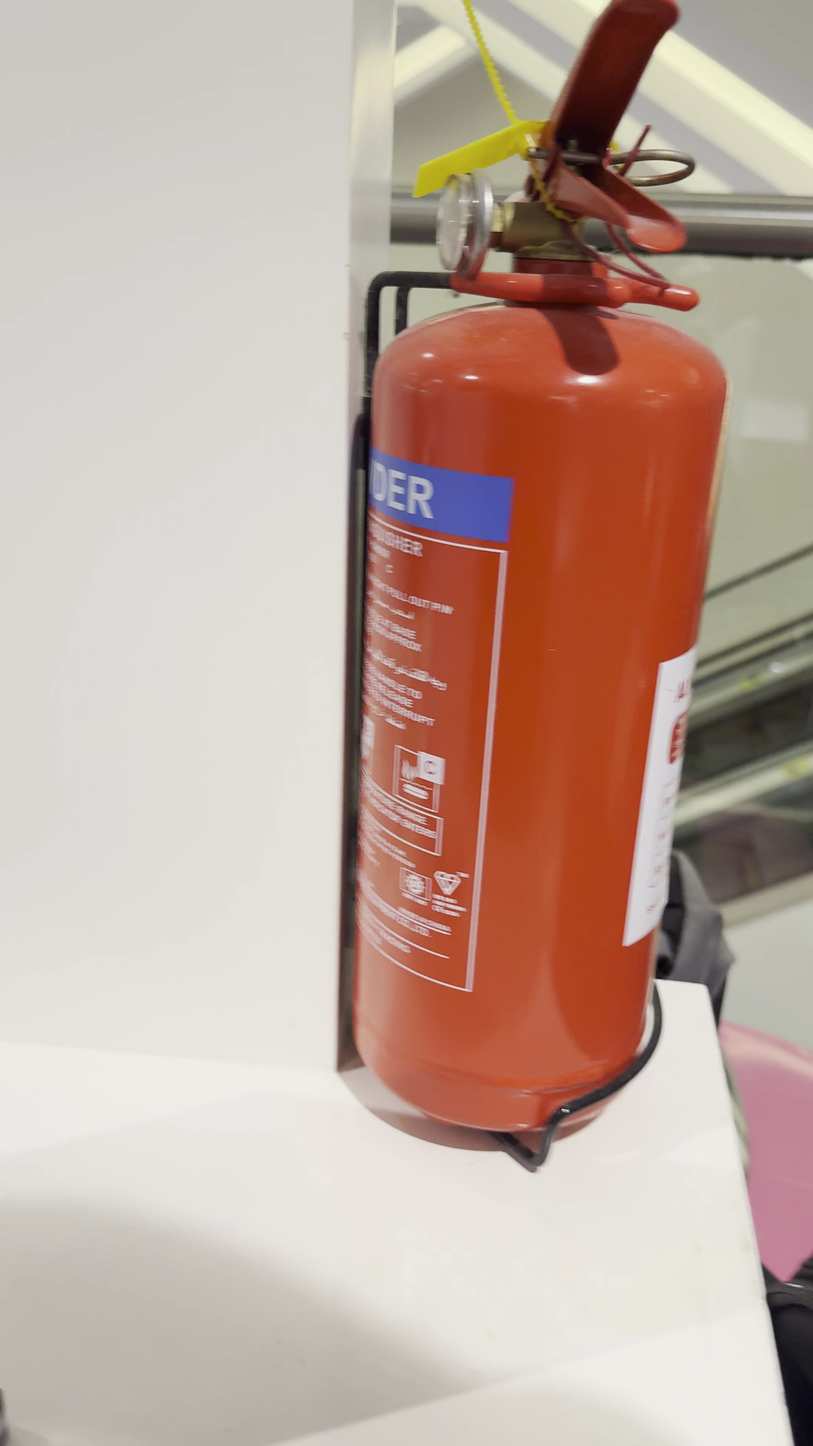fire_extinguisher: (346, 0, 730, 1168)
